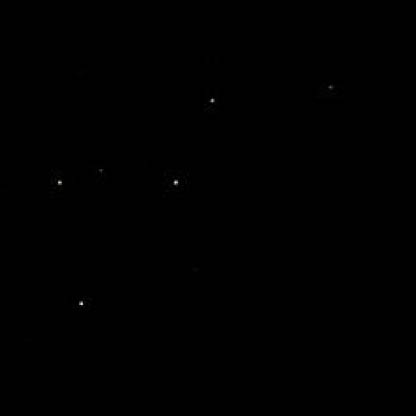Cassiopeia: (48, 156, 114, 196), (157, 177, 200, 202), (201, 83, 225, 114), (317, 77, 341, 101), (70, 293, 92, 316)
